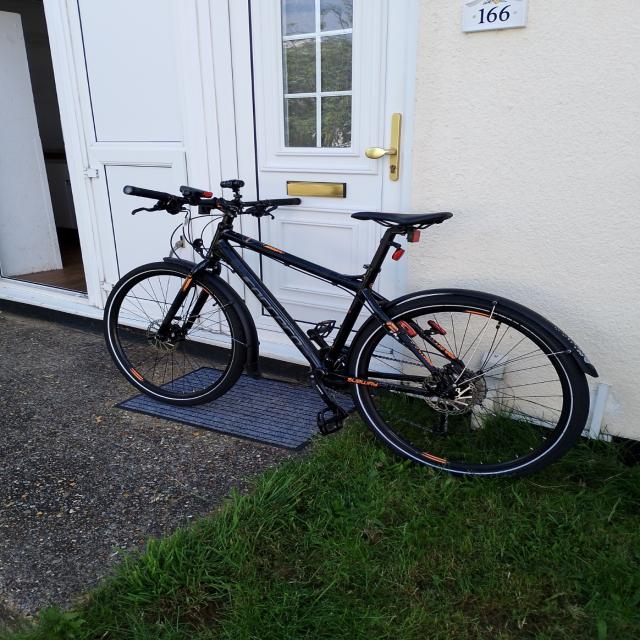bicycle: (102, 178, 598, 478)
